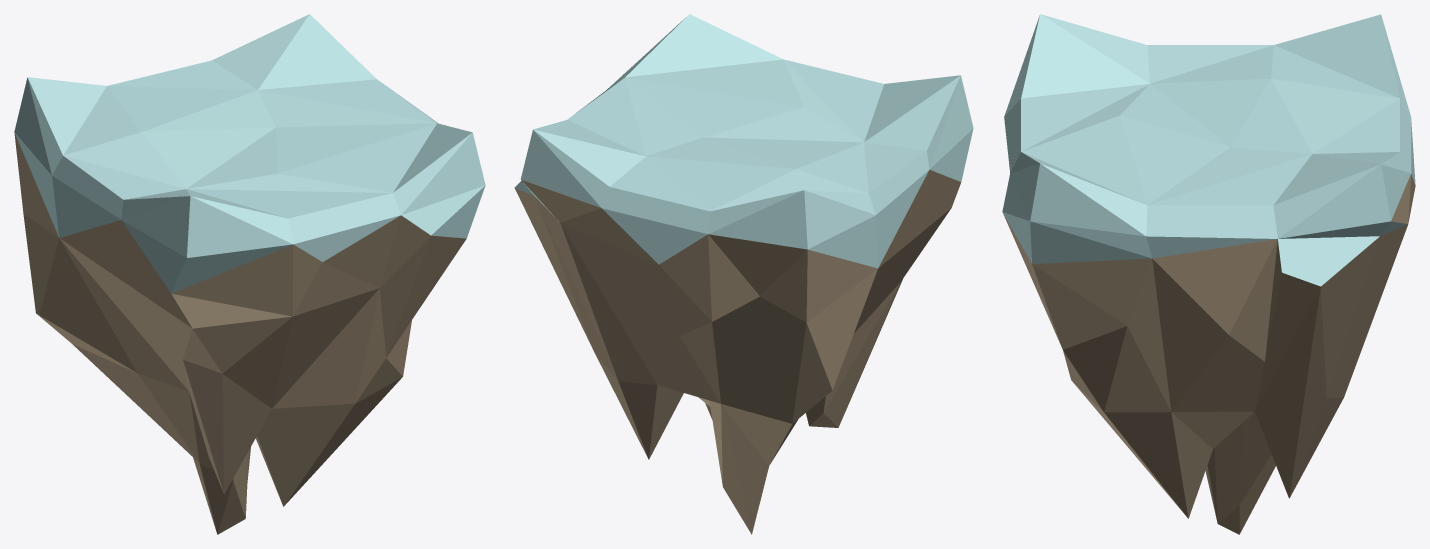
File: plane_ice.FBX
3 views of the same model, side by side, from view 1: azimuth 30°, elevation 25°; view 2: azimuth 150°, elevation 25°; view 3: azimuth 270°, elevation 25° (orthographic). The views are drawn at different scales.
Parts seen in each view (by area): view 1: plane; view 2: plane; view 3: plane.
Boxes of the visible parts, x1,y1,x2,y2 form: plane: (14,14,485,534); plane: (514,14,973,534); plane: (1002,14,1415,534).
Bounding box in the file's own units: 39.7 × 46.8 × 38.22.
Materials: 1 (1 with a texture image).
